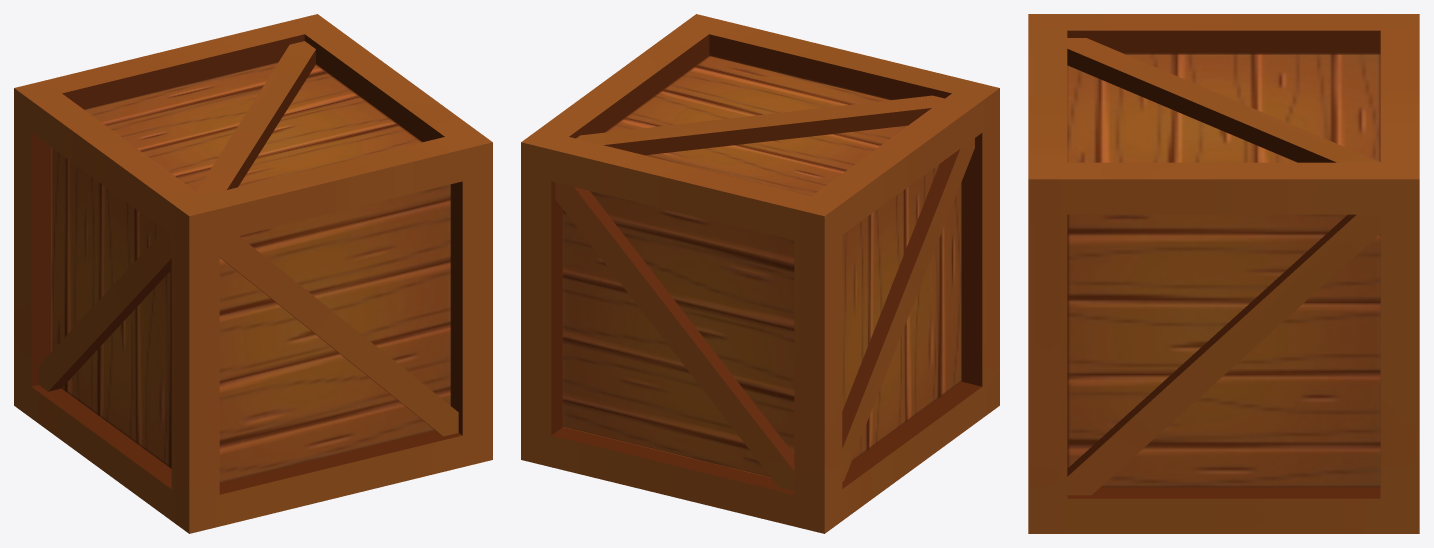
Rendered from CaixaMadeira.fbx.
The picture shows the model from 3 angles, left to right: view 1: azimuth 30°, elevation 25°; view 2: azimuth 150°, elevation 25°; view 3: azimuth 270°, elevation 25°; orthographic projection. The views are drawn at different scales.
Visible parts, largest first — view 1: CaixaMadeira; view 2: CaixaMadeira; view 3: CaixaMadeira.
Boxes of the visible parts, x1=… form: CaixaMadeira: x1=14, y1=14, x2=492, y2=533; CaixaMadeira: x1=521, y1=14, x2=999, y2=533; CaixaMadeira: x1=1028, y1=14, x2=1419, y2=533.
Bounding box in the file's own units: 100 × 100 × 100.
